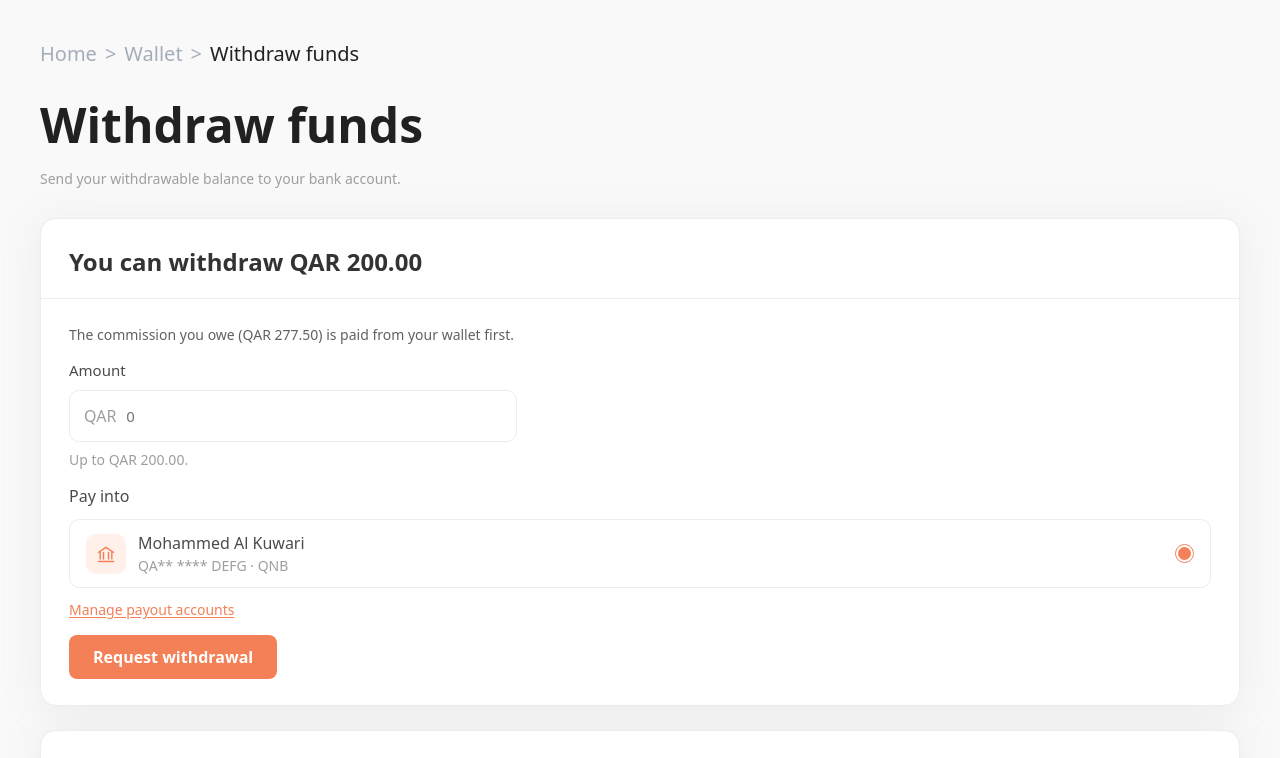
Test: WithdrawalView › shows the cap the API reports with WALLET_003
In the field labelled "Amount": coordinates (313, 416) [124, 405, 502, 427], type "180"
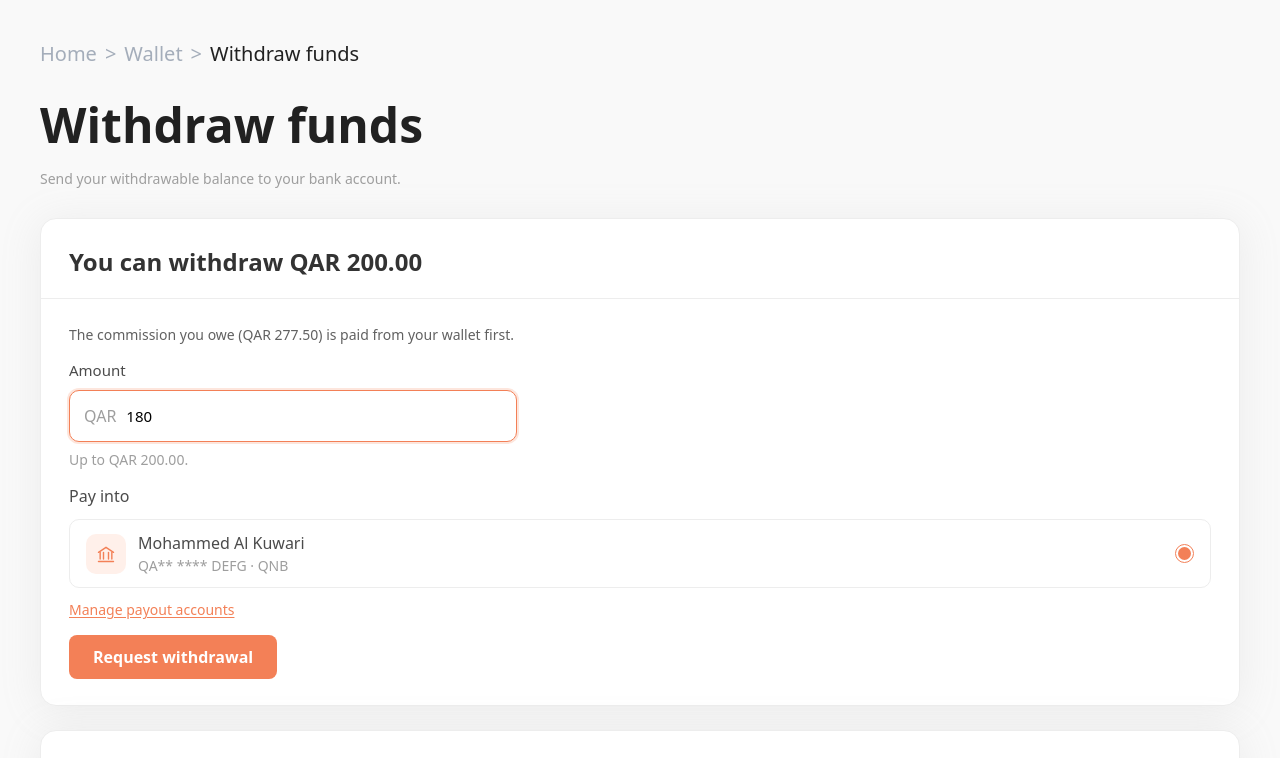
Click the button "Request withdrawal": coordinates (173, 657) [69, 635, 277, 679]
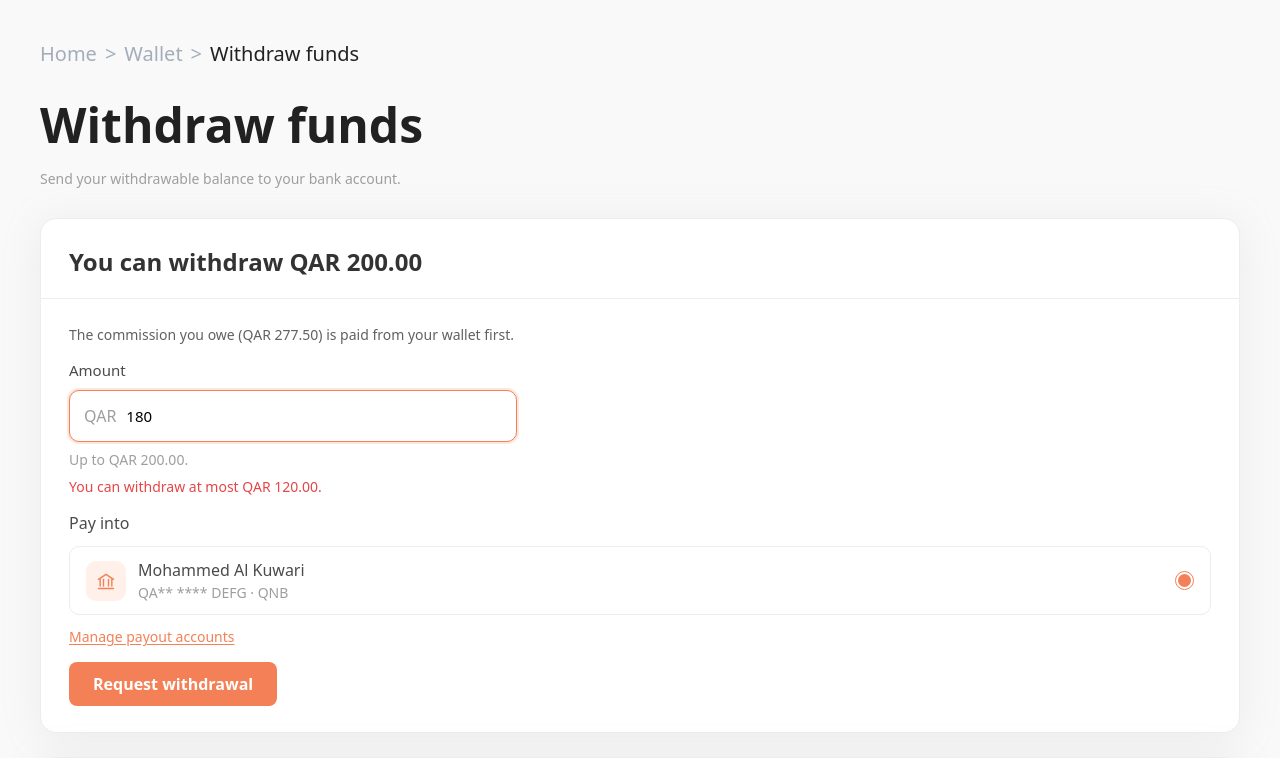
Expected: the text "You can withdraw at most QAR 120.00." is shown, [69, 477, 322, 496]
